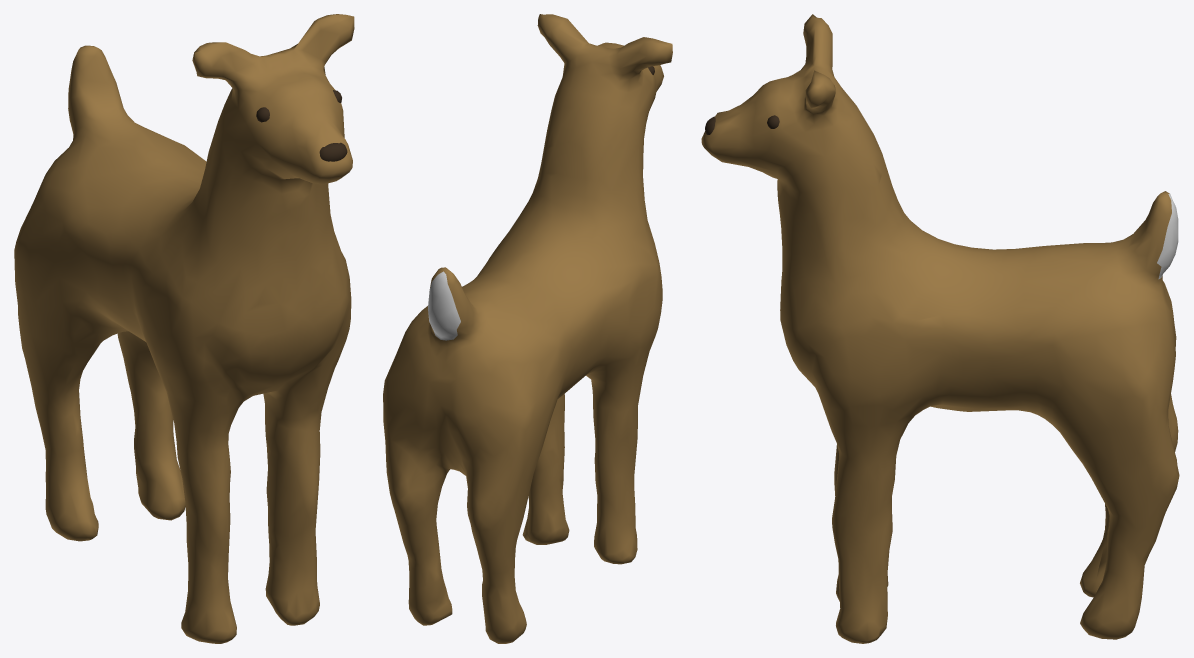
The model's file is Deer Doe.glb.
The picture shows the model from 3 angles, left to right: view 1: azimuth 30°, elevation 25°; view 2: azimuth 150°, elevation 25°; view 3: azimuth 270°, elevation 25°; orthographic projection. The views are drawn at different scales.
Visible parts, largest first — view 1: Deer Doe; view 2: Deer Doe; view 3: Deer Doe.
Boxes of the visible parts, x1,y1,x2,y2 form: Deer Doe: [14, 14, 354, 643]; Deer Doe: [383, 14, 672, 643]; Deer Doe: [701, 14, 1179, 643].
Bounding box in the file's own units: 0.548 × 1.84 × 1.4.
